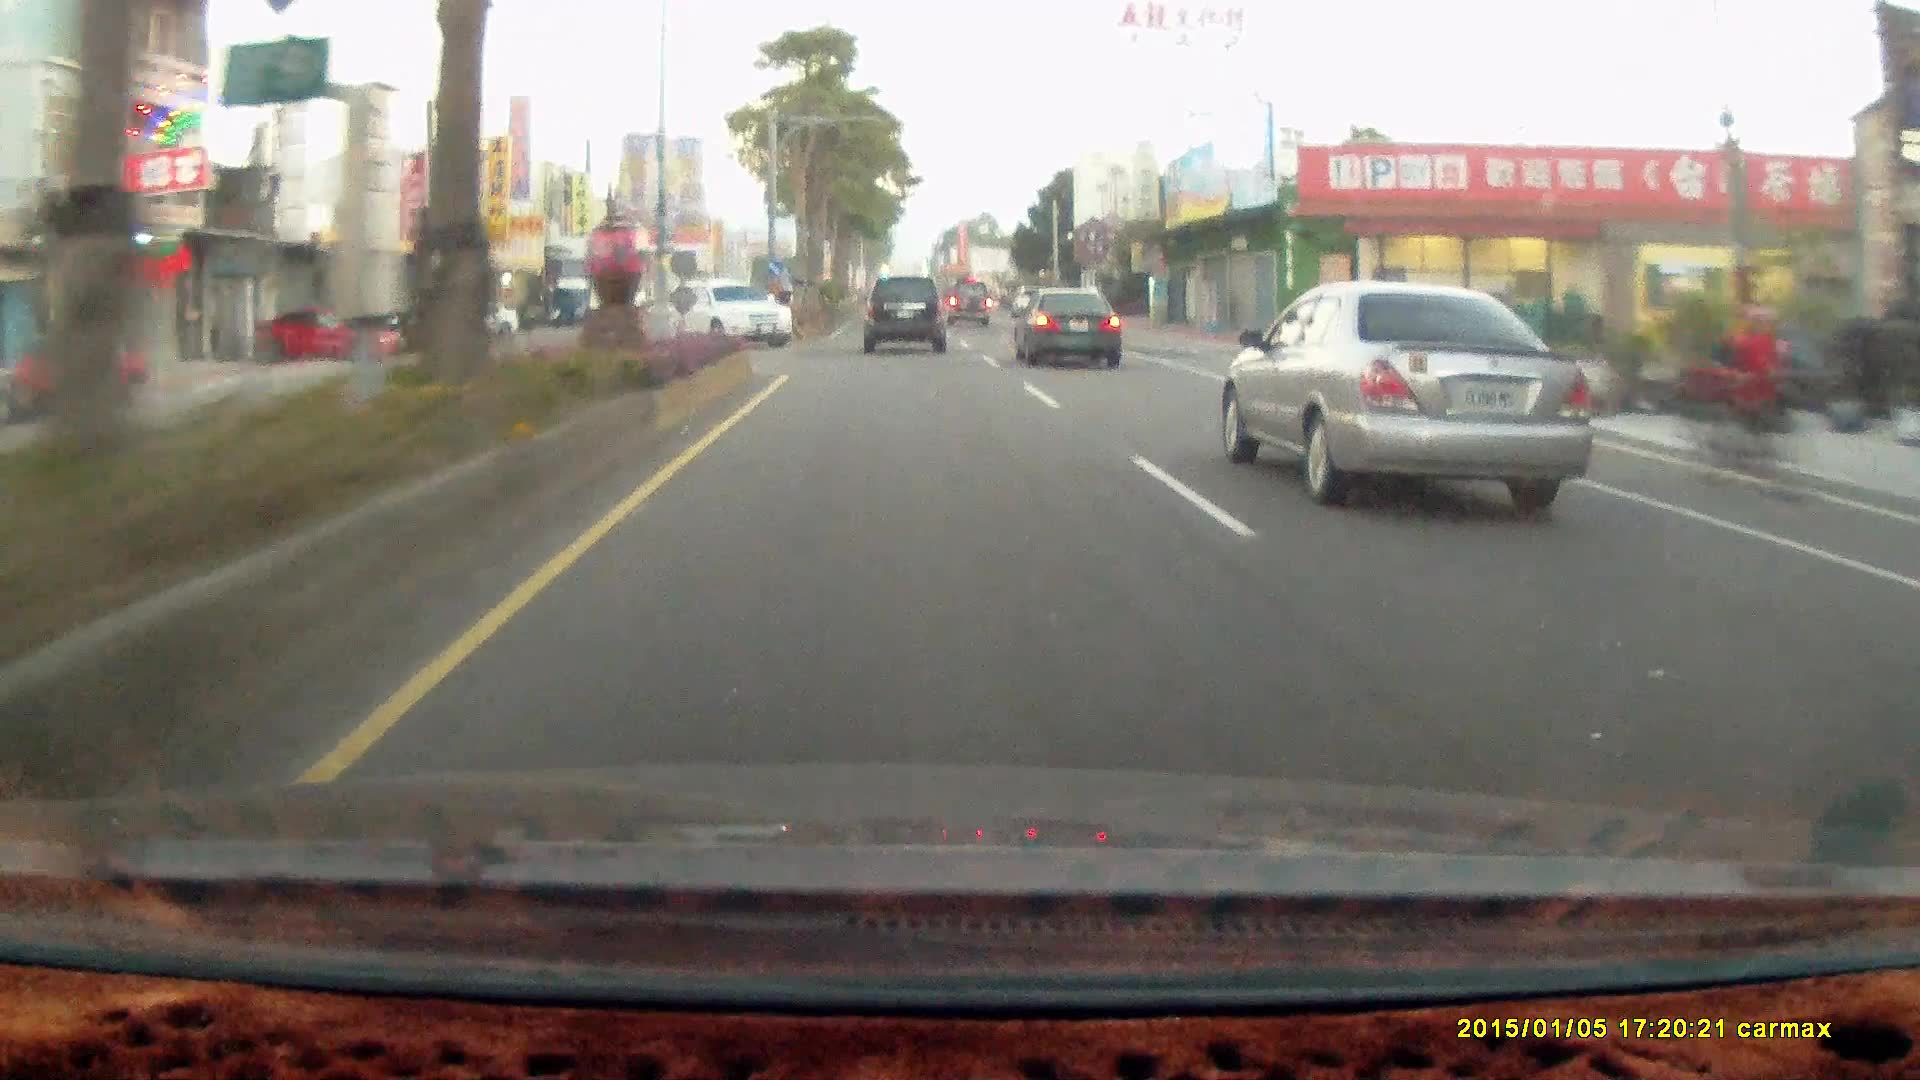pedestrian: (1714, 301, 1788, 491), (1734, 304, 1795, 474)
vehicle: (1239, 281, 1599, 507), (12, 327, 150, 417), (1011, 285, 1129, 371), (661, 279, 793, 349), (247, 306, 409, 362), (1011, 285, 1121, 366), (252, 306, 406, 362), (686, 280, 798, 350), (862, 277, 953, 355), (862, 275, 945, 353), (945, 281, 995, 330), (945, 274, 994, 324)
